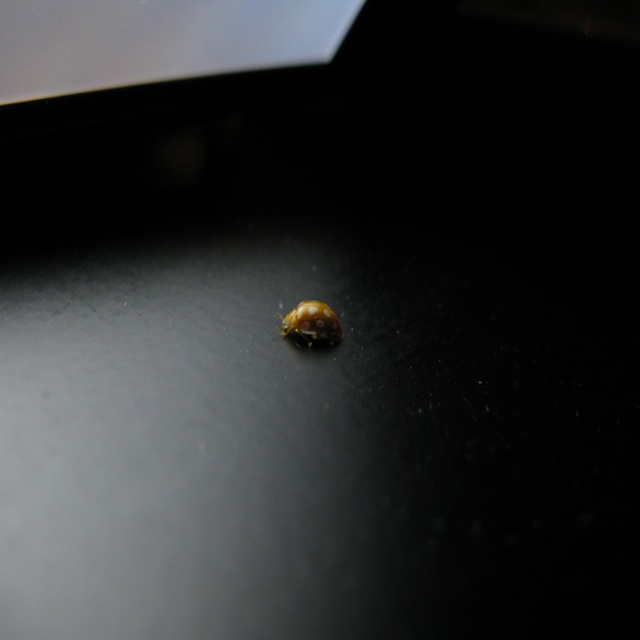Ladybug: (269, 301, 344, 349)
